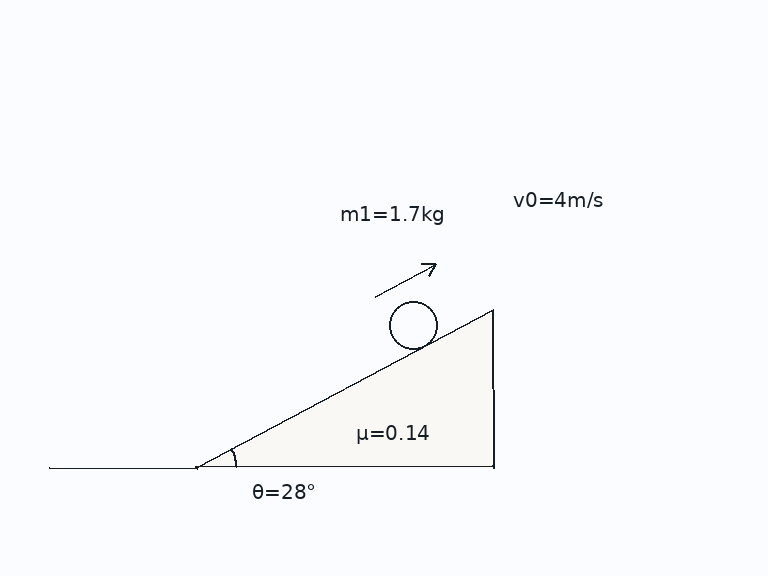ball: (387, 299, 439, 351)
ramp: (194, 308, 494, 469)
